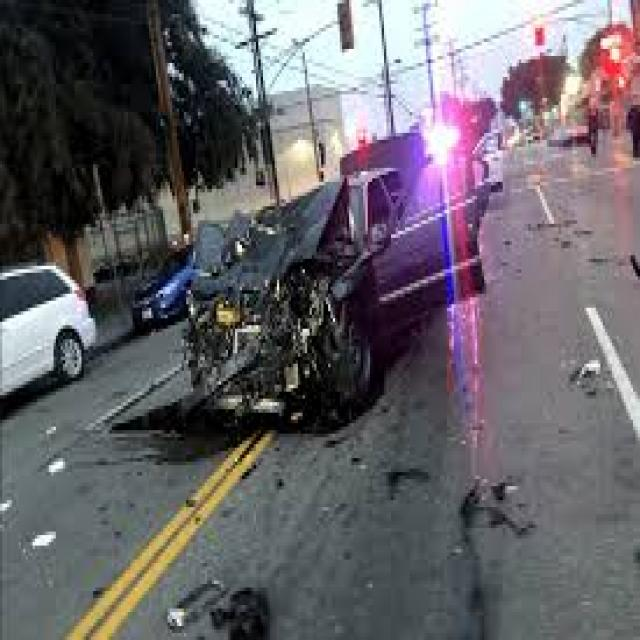accident: (189, 182, 450, 444)
